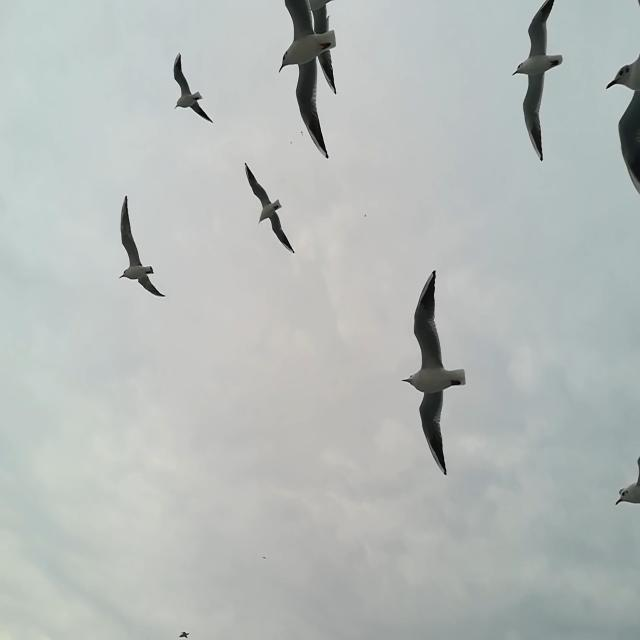bird: (401, 269, 469, 479), (278, 0, 338, 160), (513, 2, 564, 161), (605, 0, 640, 196), (244, 164, 298, 253), (119, 198, 165, 299), (301, 0, 338, 99), (172, 54, 215, 124), (615, 451, 640, 508), (177, 628, 193, 640)
